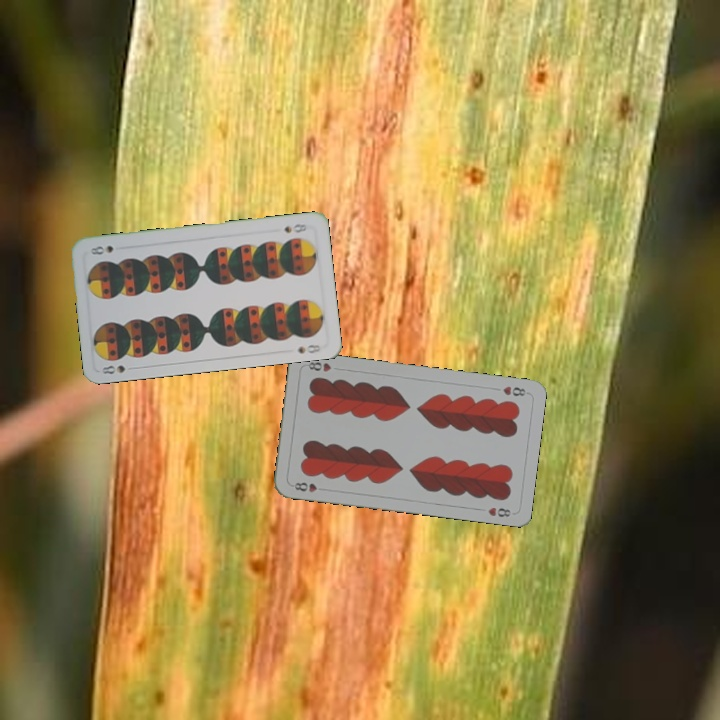H8: (290, 478, 328, 495), (499, 382, 530, 399)
S8: (98, 361, 138, 377), (280, 220, 309, 235)
